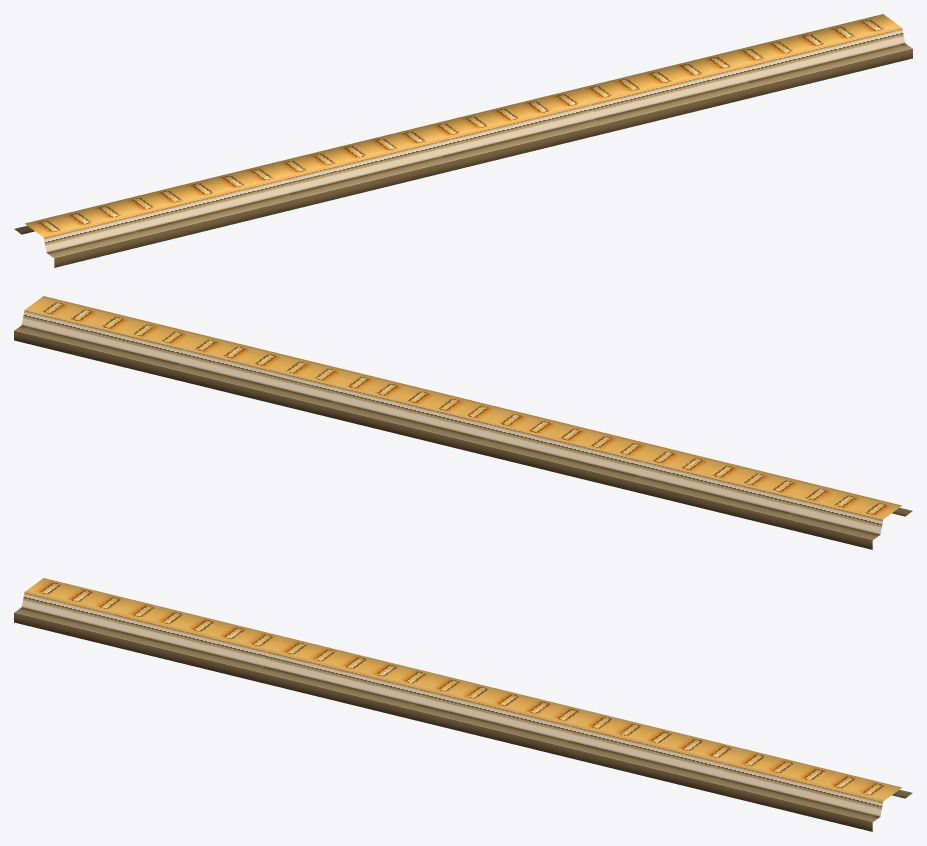
File: a_SEblockA01.glb
3 renders of one model, top to bottom at view 1: azimuth 30°, elevation 25°; view 2: azimuth 150°, elevation 25°; view 3: azimuth 330°, elevation 25°, orthographic.
Visible parts, largest first — view 1: a_SEblockA01; view 2: a_SEblockA01; view 3: a_SEblockA01.
Part boxes in pixels (x1,y1,x2,y2): a_SEblockA01: (14,14,912,267); a_SEblockA01: (14,296,912,549); a_SEblockA01: (14,578,912,831).
Bounding box in the file's own units: 2 × 0.0505 × 0.1623.
1 material, 1 textured.
